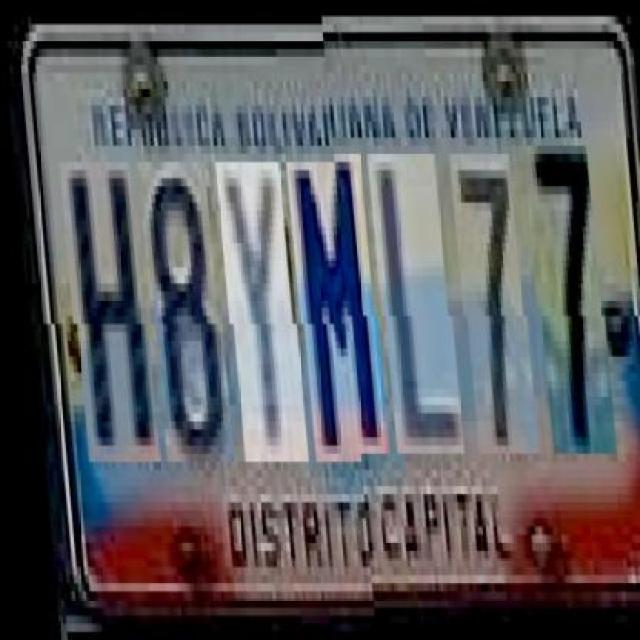7: (524, 145, 608, 453), (451, 154, 531, 454)
8: (138, 154, 225, 454)
h: (59, 154, 150, 454)
l: (369, 154, 456, 454)
m: (286, 154, 382, 454)
y: (215, 154, 300, 454)
